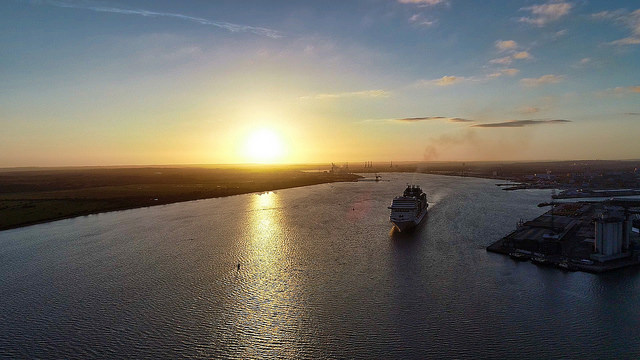cruise_ship: (388, 185, 431, 233)
